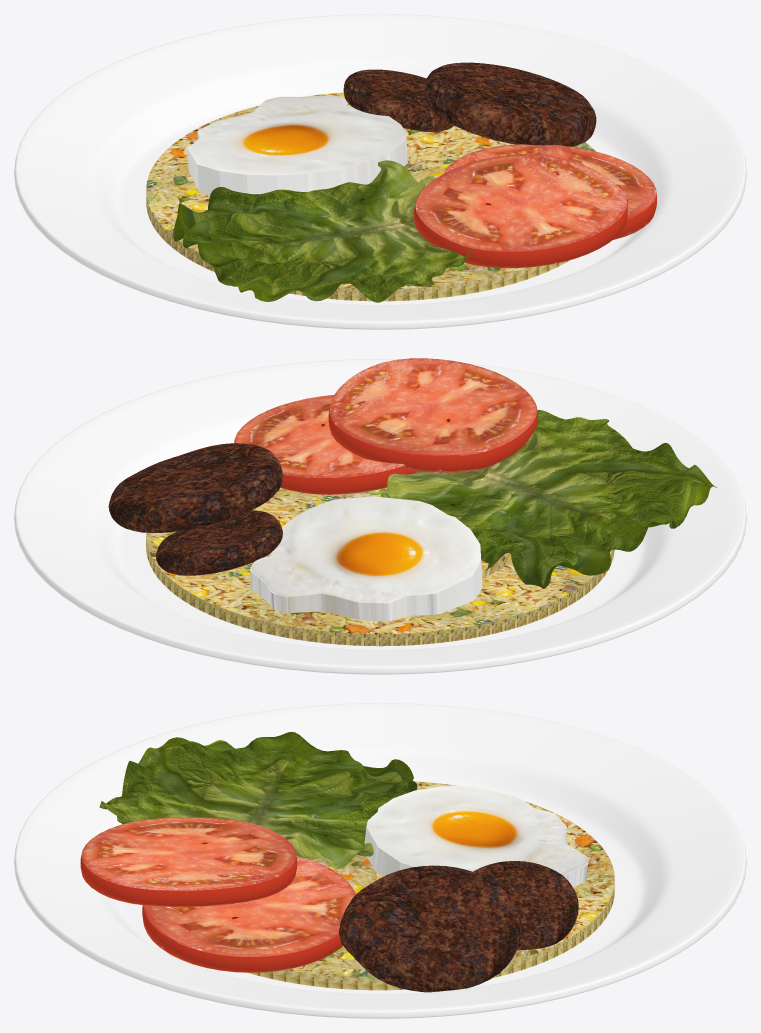
3 views of the same model, one above another, from view 1: azimuth 30°, elevation 25°; view 2: azimuth 150°, elevation 25°; view 3: azimuth 270°, elevation 25° (orthographic).
Visible parts, largest first — view 1: Material2 (×5), Material3; view 2: Material2 (×5), Material3; view 3: Material2 (×5), Material3.
Part boxes in pixels (x1,y1,x2,y2): Material2 (×5): (14, 14, 746, 329); Material3: (146, 92, 595, 301); Material2 (×5): (14, 358, 746, 674); Material3: (146, 487, 614, 646); Material2 (×5): (14, 703, 746, 1018); Material3: (248, 781, 614, 990).
Size of the model in its own units: 10.92 by 1.28 by 10.92.
8 materials, 5 textured.
